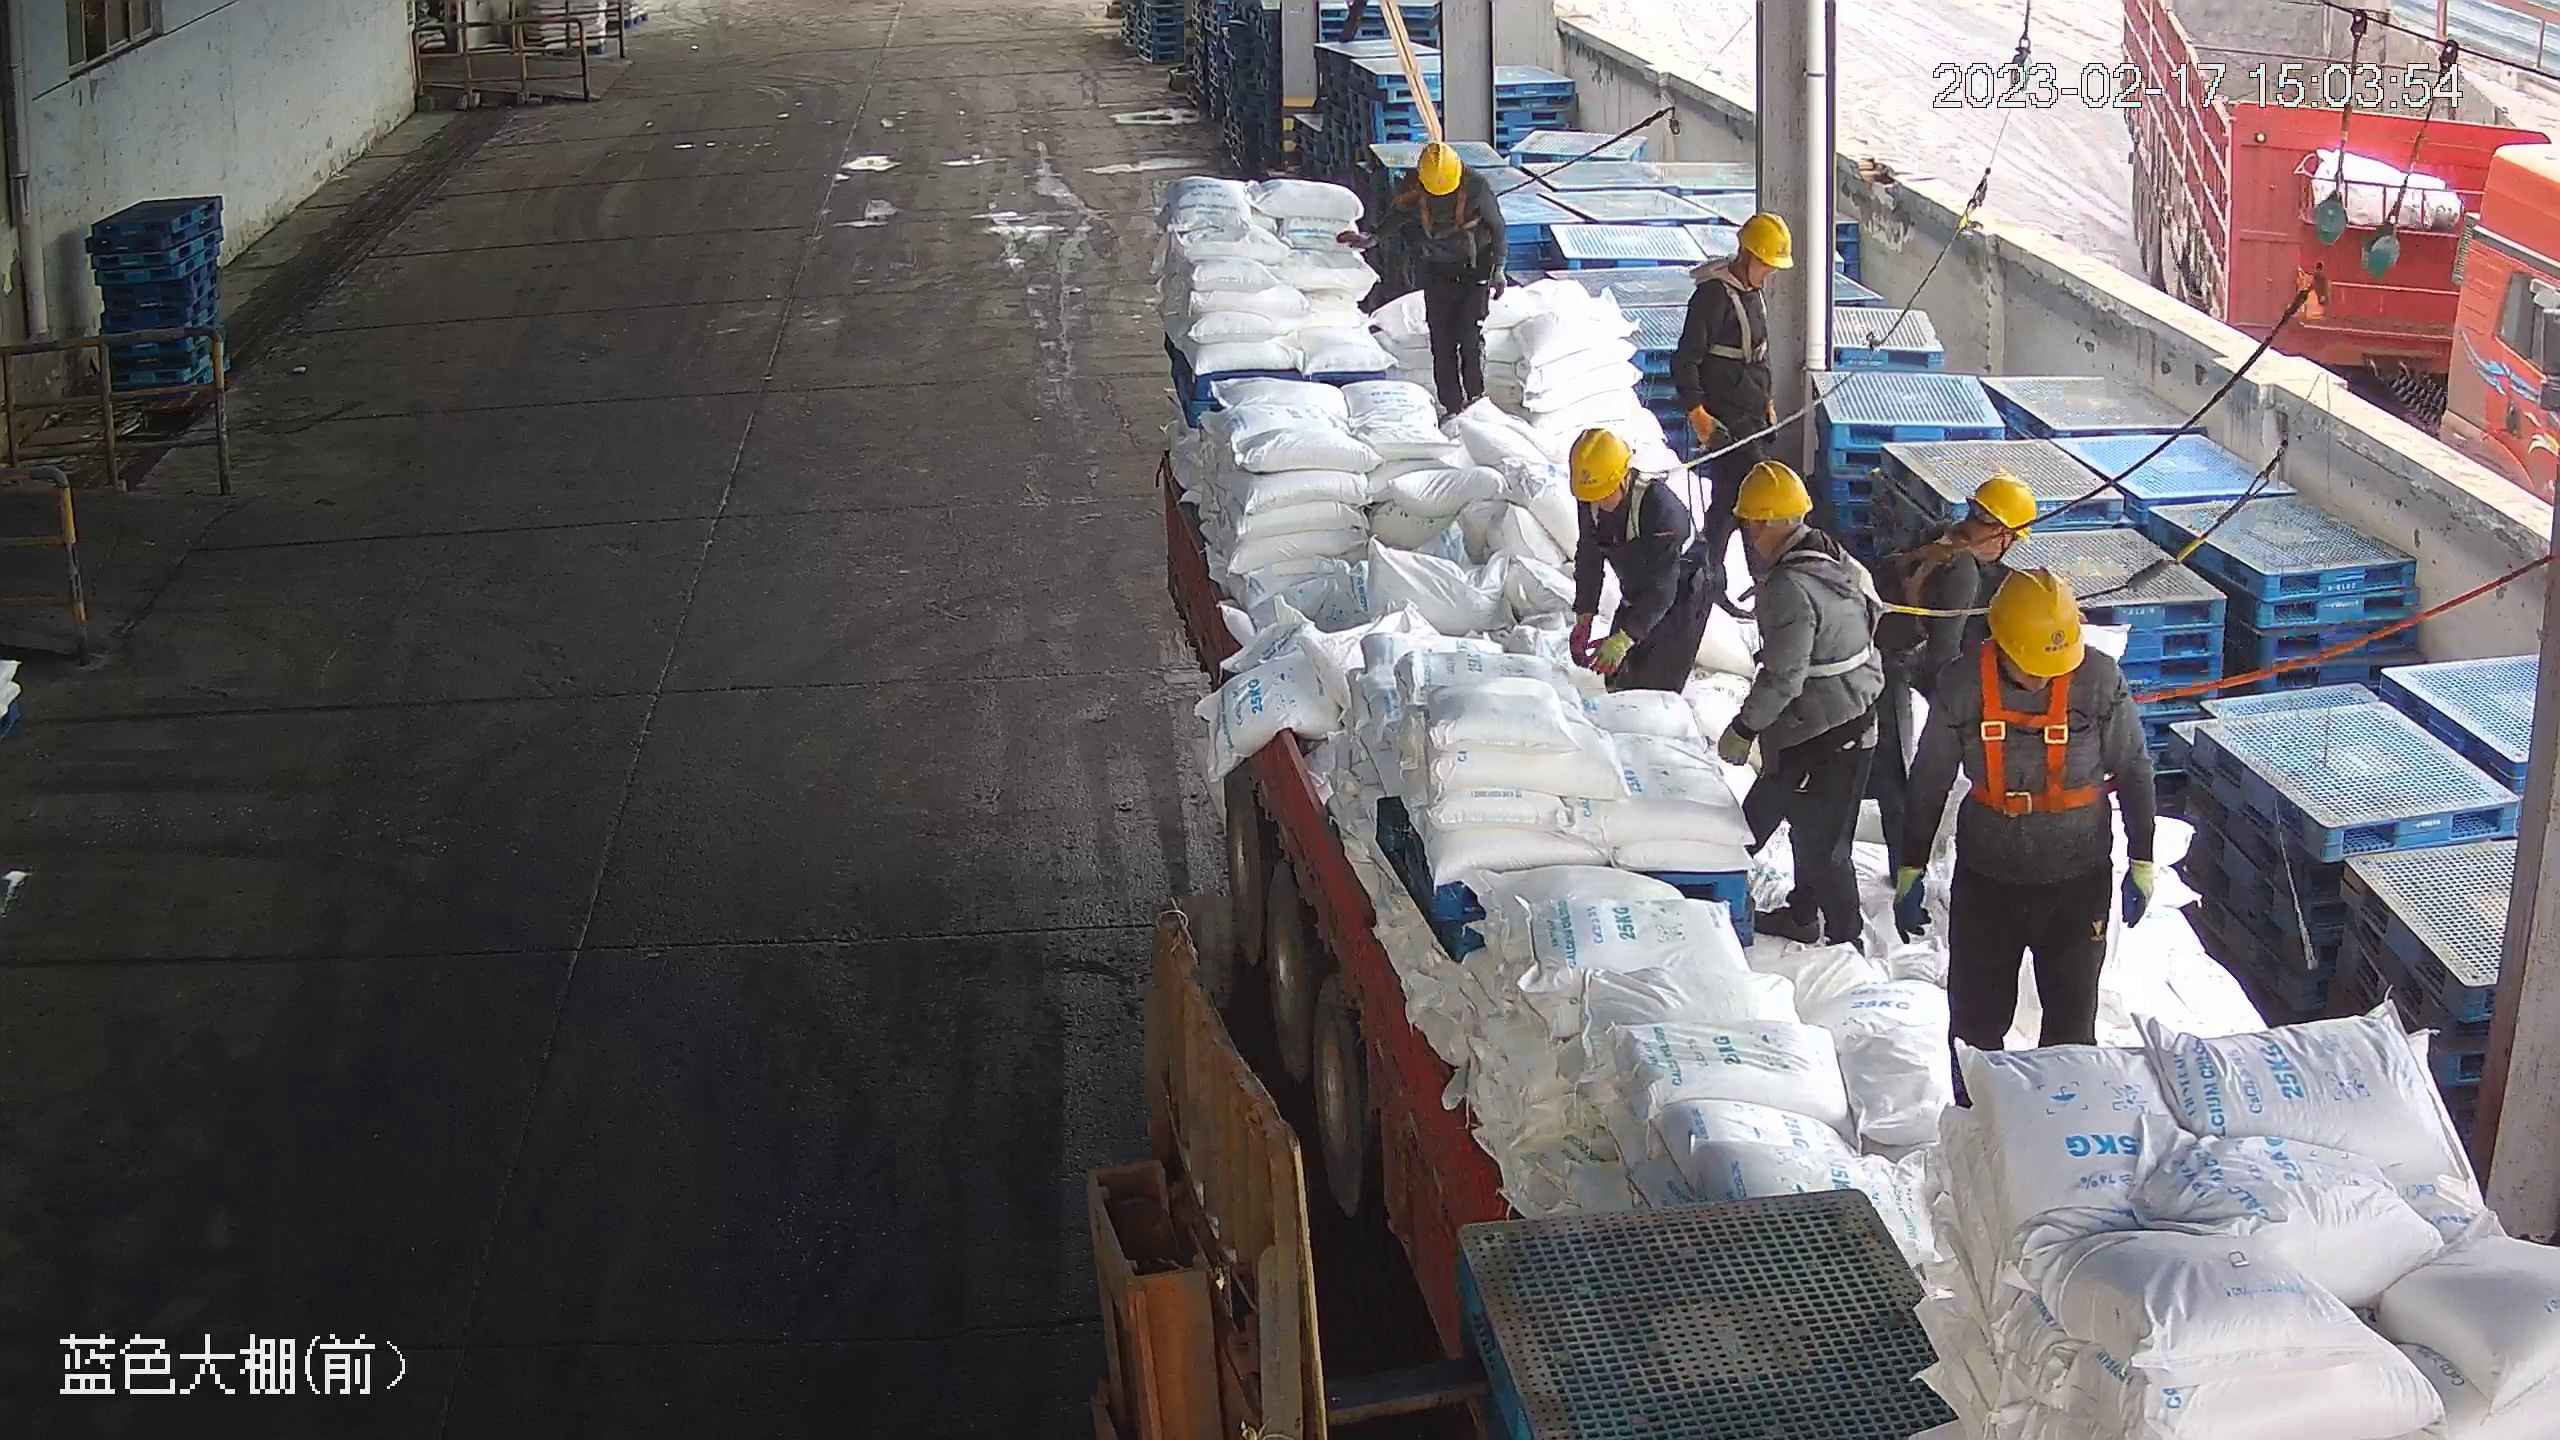belt: (1959, 641, 2119, 817), (1767, 543, 1897, 680), (1877, 526, 1987, 622), (1593, 458, 1695, 546), (1695, 268, 1778, 362), (1413, 171, 1486, 238)
head: (1959, 565, 2116, 715), (1720, 460, 1869, 614), (1906, 473, 2032, 584), (1682, 208, 1794, 323), (1570, 429, 1694, 531), (1388, 140, 1501, 233)
helmet: (1986, 566, 2085, 679), (1728, 458, 1812, 523), (1563, 424, 1631, 501), (1969, 472, 2036, 537), (1735, 209, 1792, 270), (1412, 138, 1465, 196)
people: (1899, 561, 2157, 1090), (1709, 455, 1890, 958), (1852, 473, 2034, 883), (1352, 135, 1513, 427), (1563, 423, 1716, 702), (1673, 206, 1793, 524)
truck: (1164, 398, 2546, 1440)
